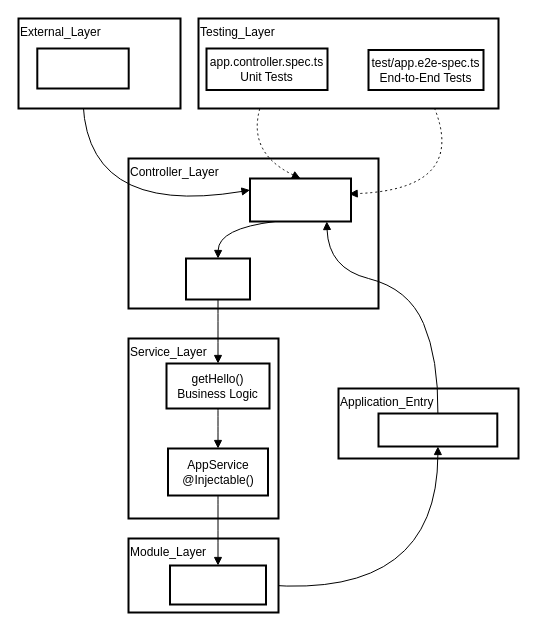
Image size: 536x630. Some labels were removed from this diagram. Here are the shapes that lost their labels. From the top down, the centre of each, then its label:
the point at 82,68: Client/Browser HTTP Requests
the point at 300,199: AppController @Controller()
the point at 217,278: GET / @Get()
the point at 437,429: main.ts NestFactory.create()
the point at 217,584: AppModule Root Module
